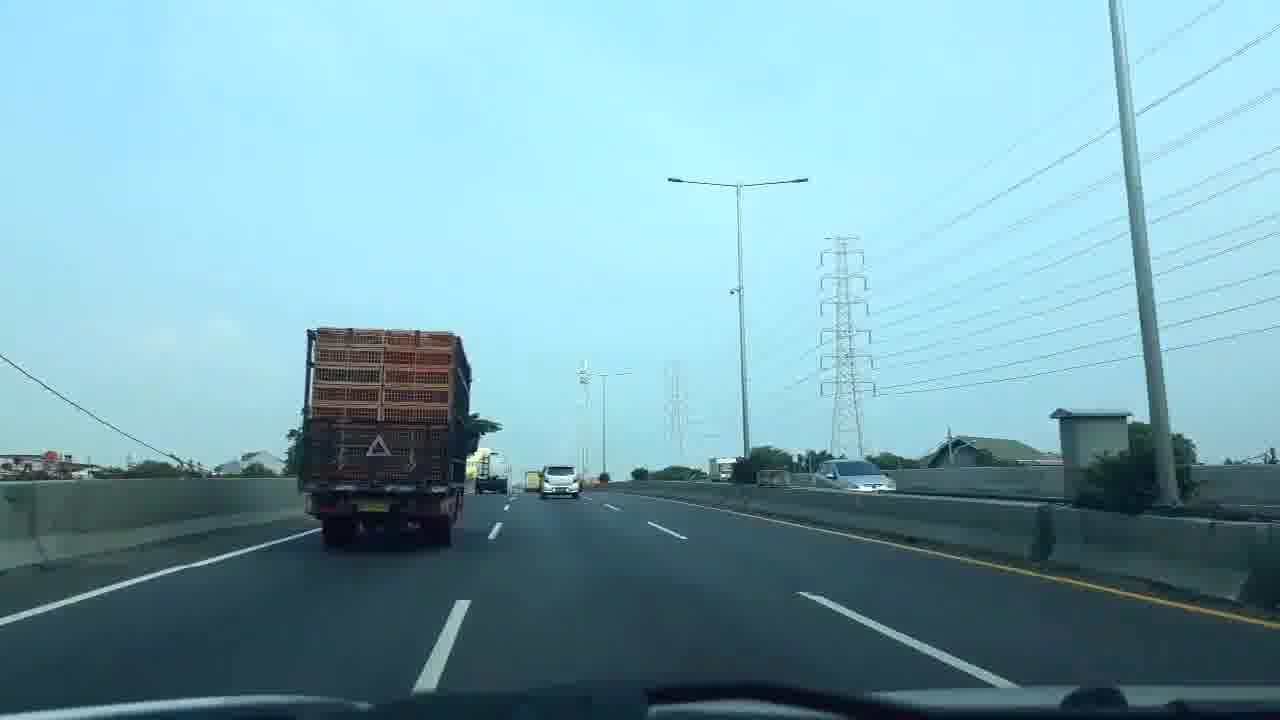plate_positive: (357, 502, 391, 513), (555, 488, 566, 492)
